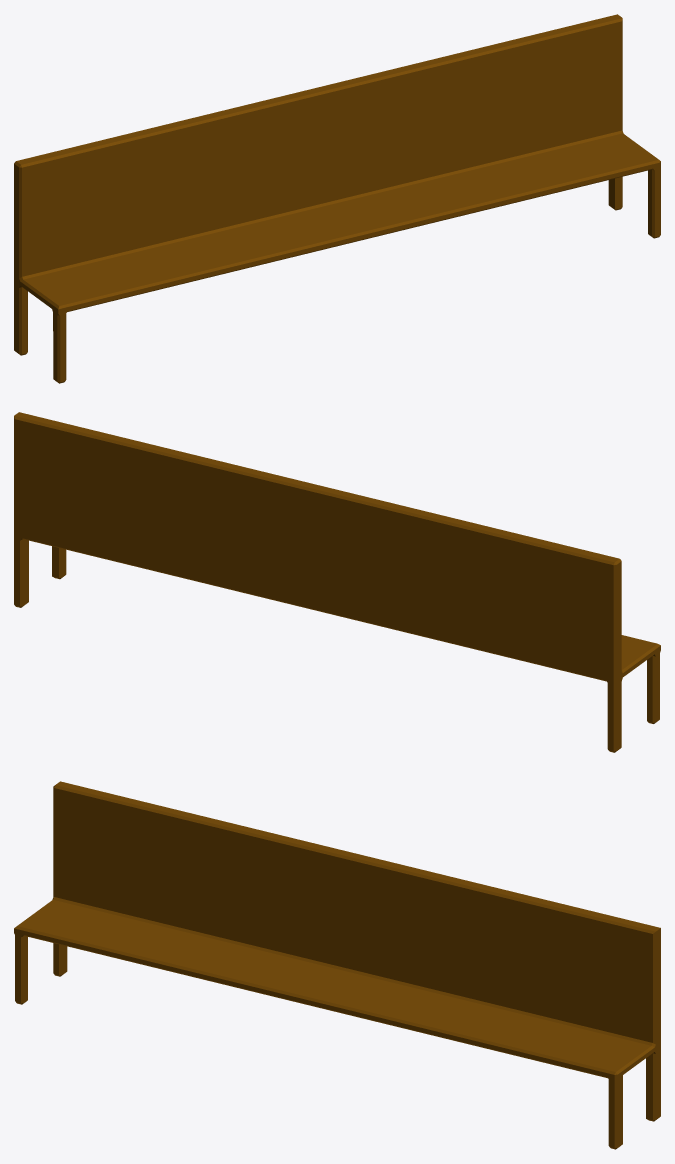
File: Chair.fbx
3 views of the same model, one above another, from view 1: azimuth 30°, elevation 25°; view 2: azimuth 150°, elevation 25°; view 3: azimuth 330°, elevation 25° (orthographic).
Parts seen in each view (by area): view 1: pCube1; view 2: pCube1; view 3: pCube1.
Boxes of the visible parts, x1=… form: pCube1: x1=14, y1=14, x2=660, y2=383; pCube1: x1=14, y1=412, x2=660, y2=752; pCube1: x1=14, y1=781, x2=660, y2=1149.
Bounding box in the file's own units: 9.03 × 2.73 × 1.18.
